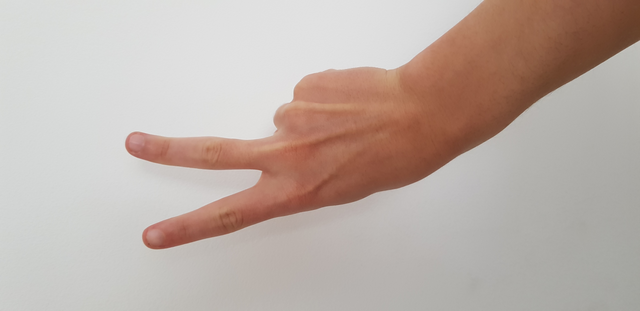Scissors: (87, 47, 465, 246)
